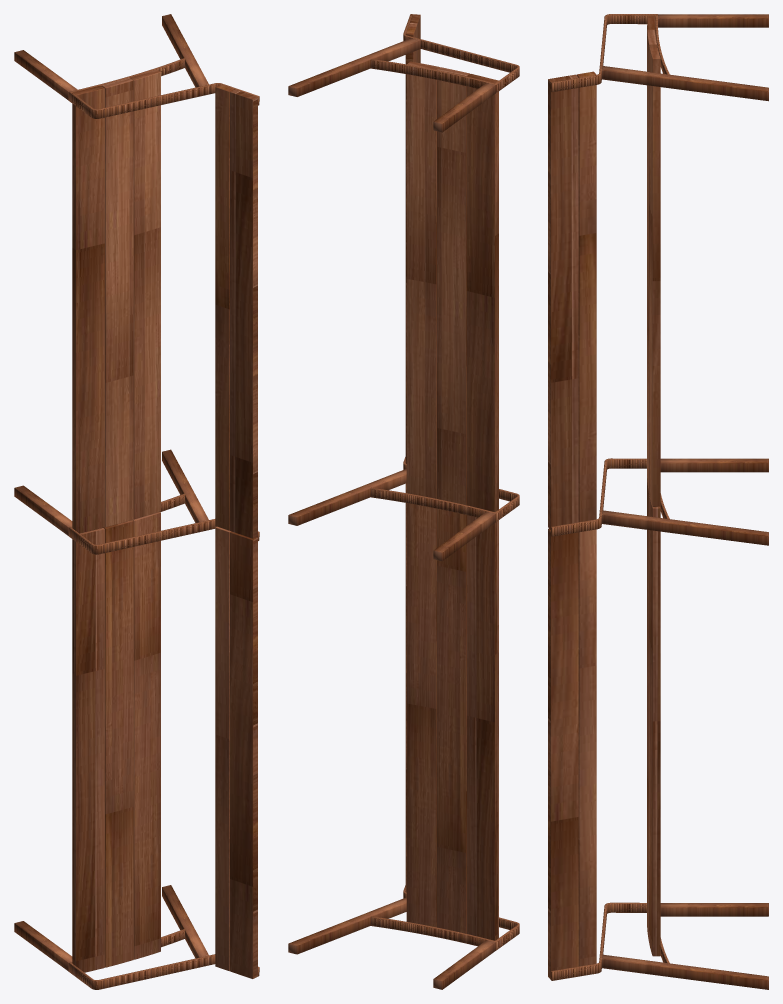
Rendered from chair.obj.
The picture shows the model from 3 angles, left to right: view 1: azimuth 30°, elevation 25°; view 2: azimuth 150°, elevation 25°; view 3: azimuth 270°, elevation 25°; orthographic projection. The views are drawn at different scales.
Parts seen in each view (by area): view 1: Line022; view 2: Line022; view 3: Line022.
Part boxes in pixels (bbox=[...]): Line022: bbox=[14, 14, 259, 989]; Line022: bbox=[288, 14, 519, 989]; Line022: bbox=[548, 14, 768, 989].
Bounding box in the file's own units: 0.3366 × 1.8 × 0.4015.
Materials: 1 (1 with a texture image).
